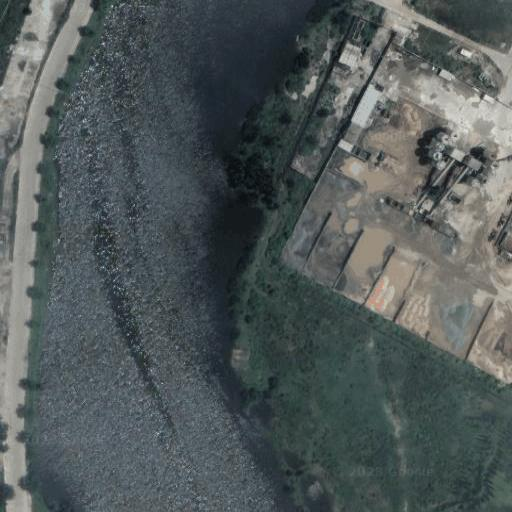building: (349, 85, 382, 128), (341, 11, 366, 43), (337, 42, 361, 69), (431, 61, 456, 84), (501, 232, 512, 252)
